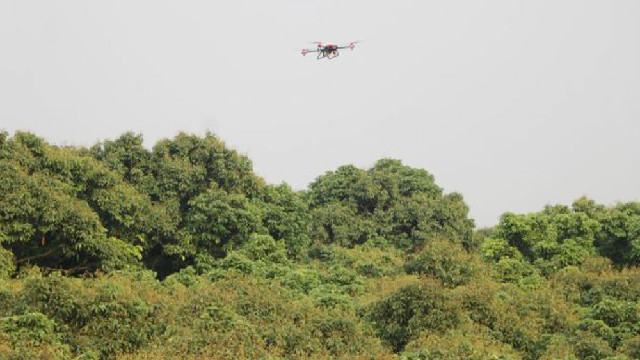maybay_khongnguoilai: (297, 38, 361, 66)
